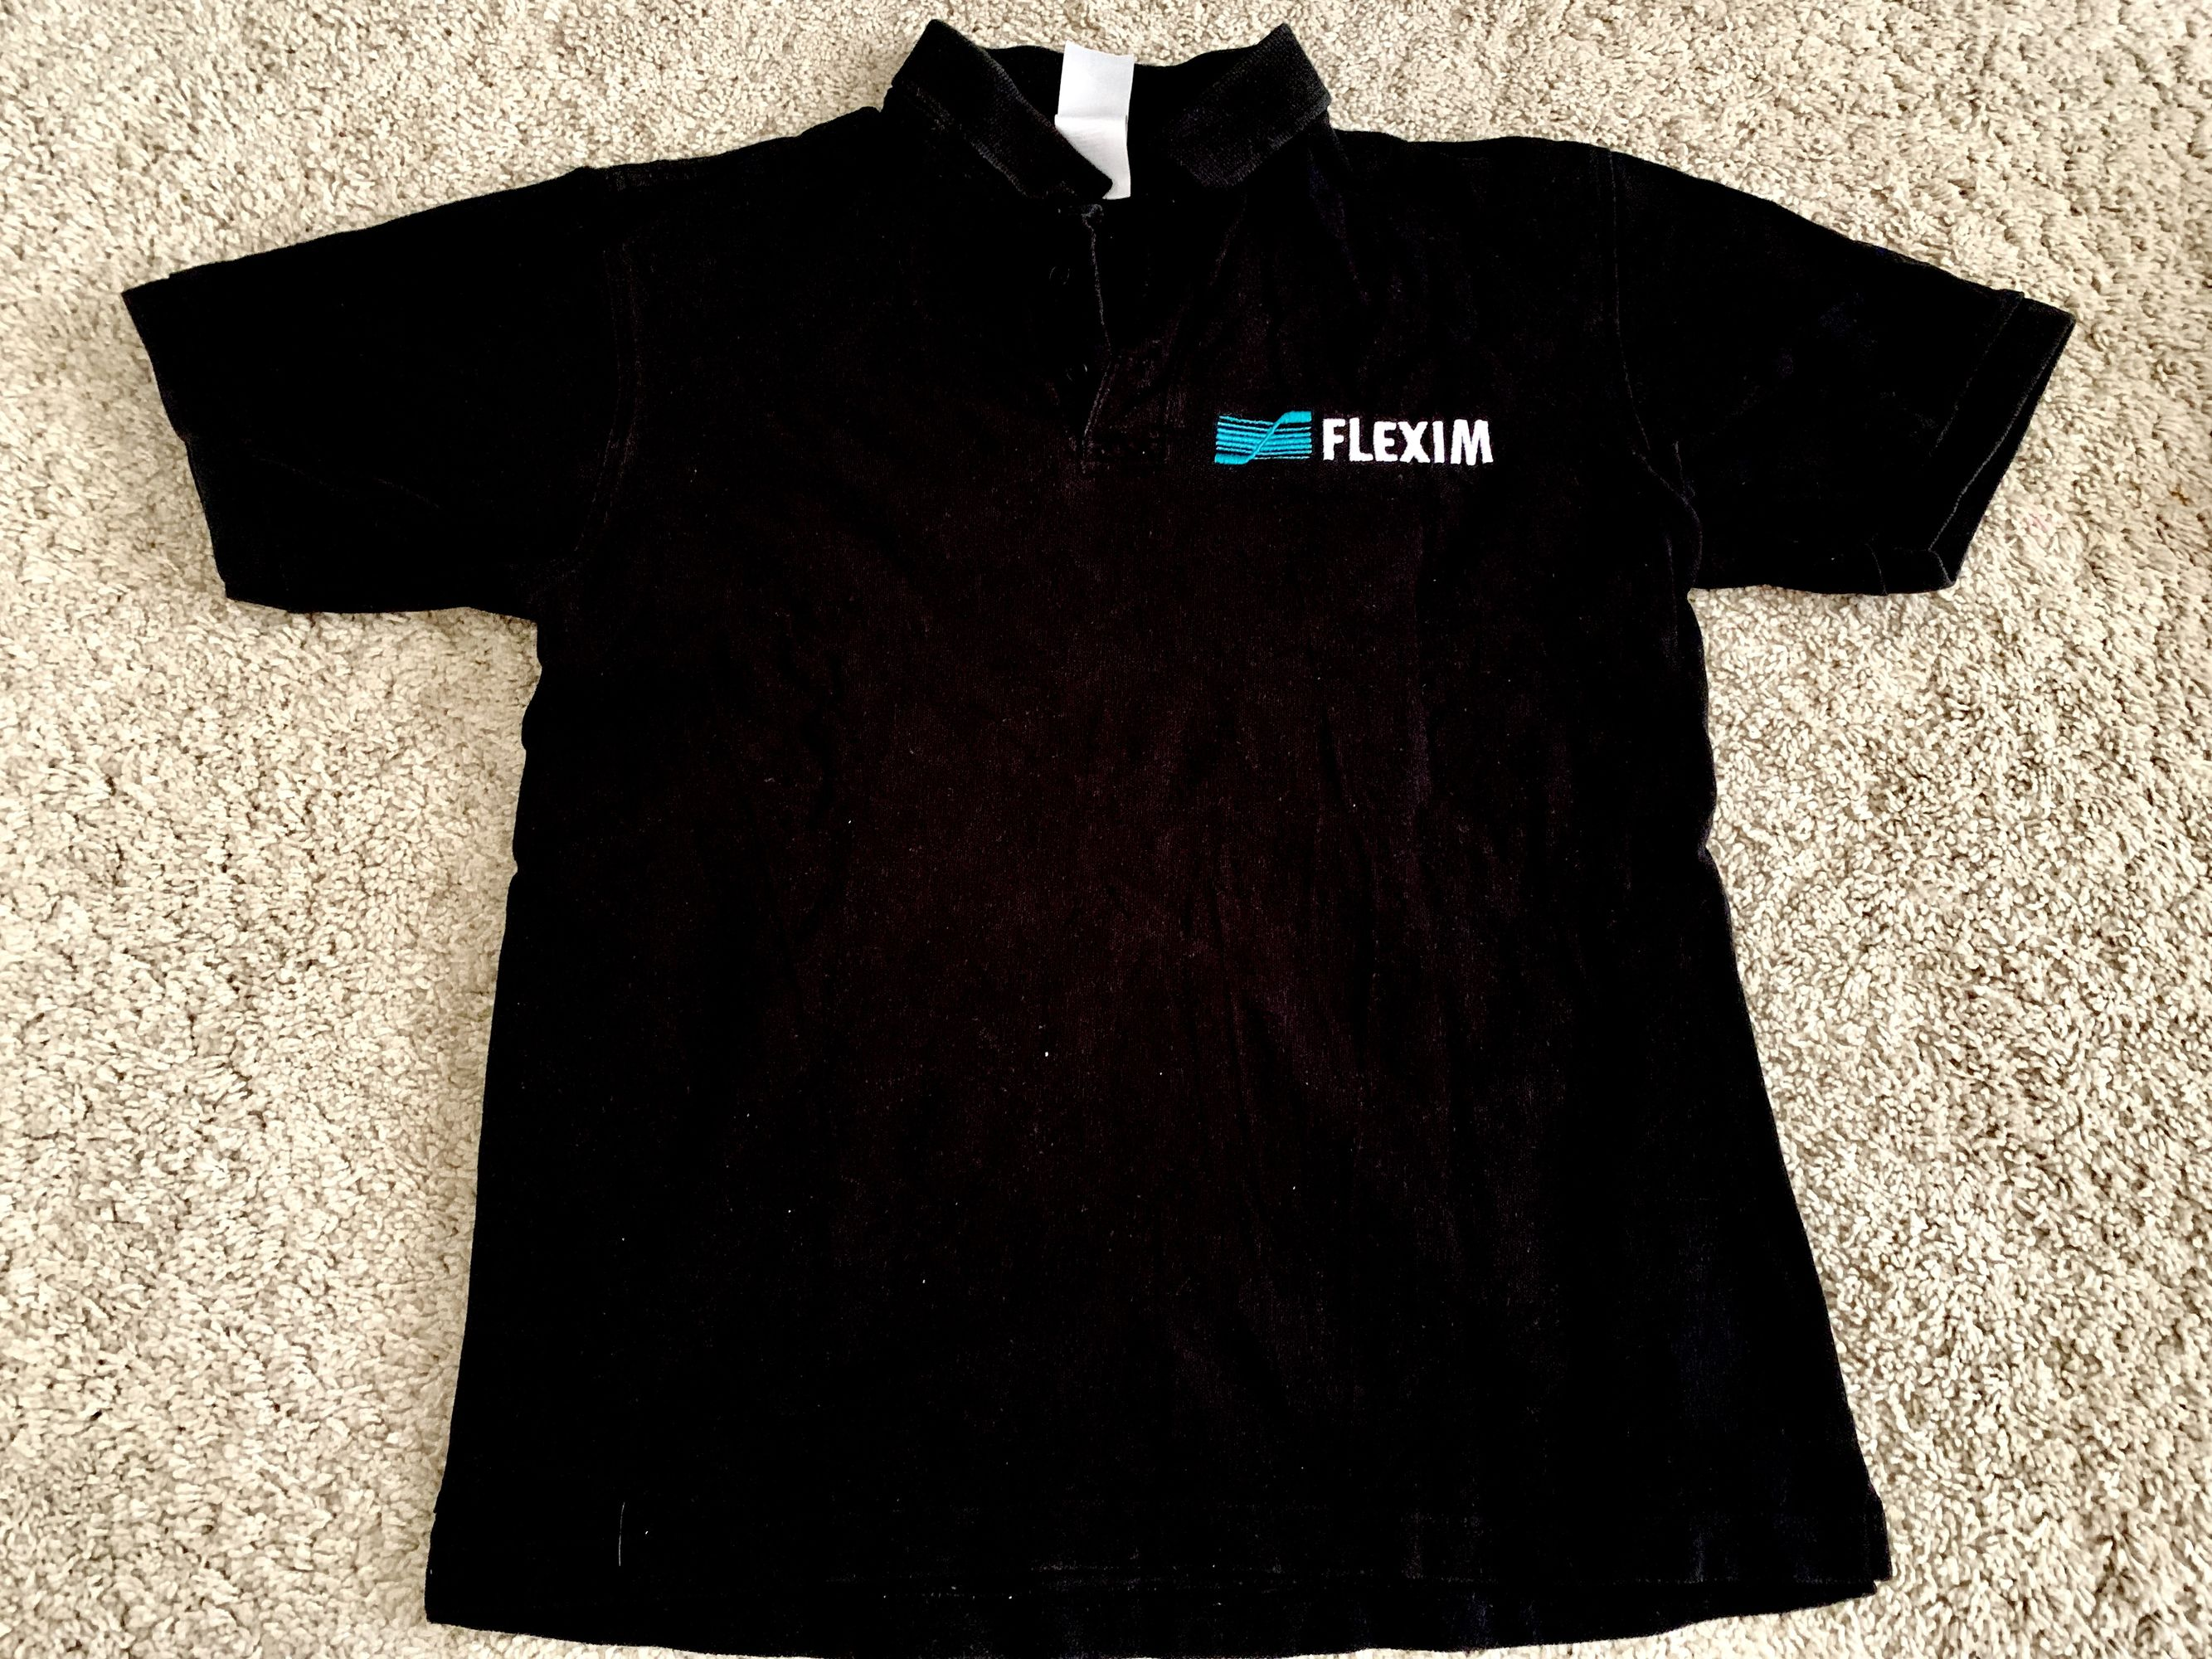clothes: (89, 23, 2054, 1642)
